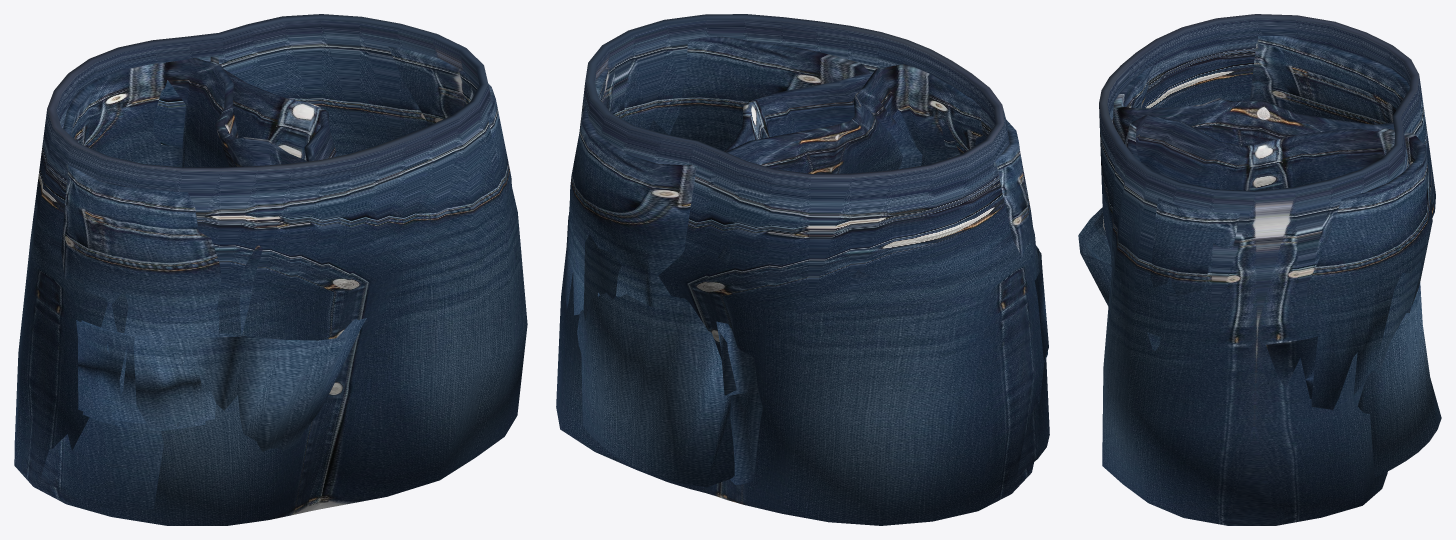
File: e68850aa-9b61-4e04-a62e-44cde2873ea4.glb
3 renders of one model, left to right at view 1: azimuth 30°, elevation 25°; view 2: azimuth 150°, elevation 25°; view 3: azimuth 270°, elevation 25°, orthographic. The views are drawn at different scales.
Visible parts, largest first — view 1: garment_leg0; view 2: garment_leg0; view 3: garment_leg0.
Part boxes in pixels (<box>): garment_leg0: <box>14,14,527,525</box>; garment_leg0: <box>556,14,1049,525</box>; garment_leg0: <box>1078,14,1441,525</box>.
Size of the model in its own units: 0.4227 by 0.3242 by 0.3108.
Materials: 1 (1 with a texture image).
